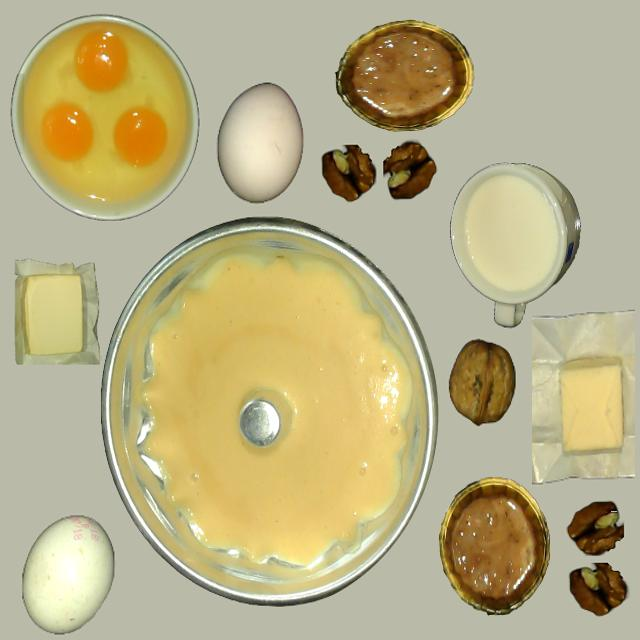Egg: (74, 29, 130, 92), (112, 107, 168, 167), (41, 103, 96, 162)
Milk: (466, 180, 553, 286)
Walnut: (448, 340, 516, 425)
